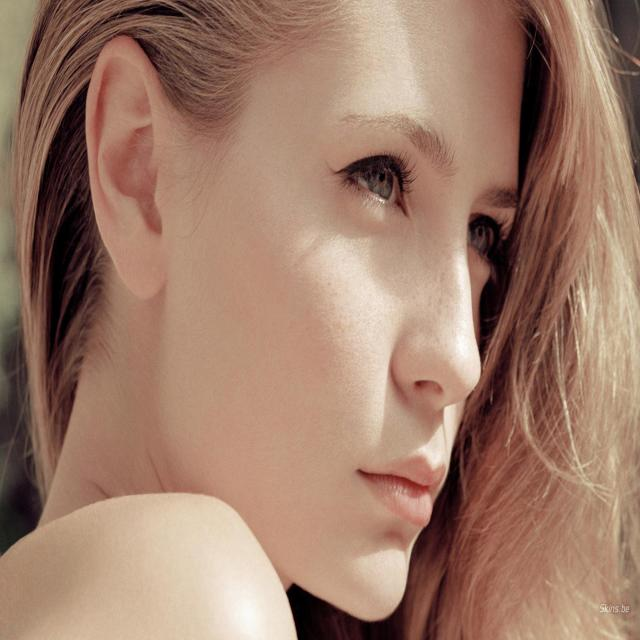no-earmuff: (74, 25, 192, 322)
